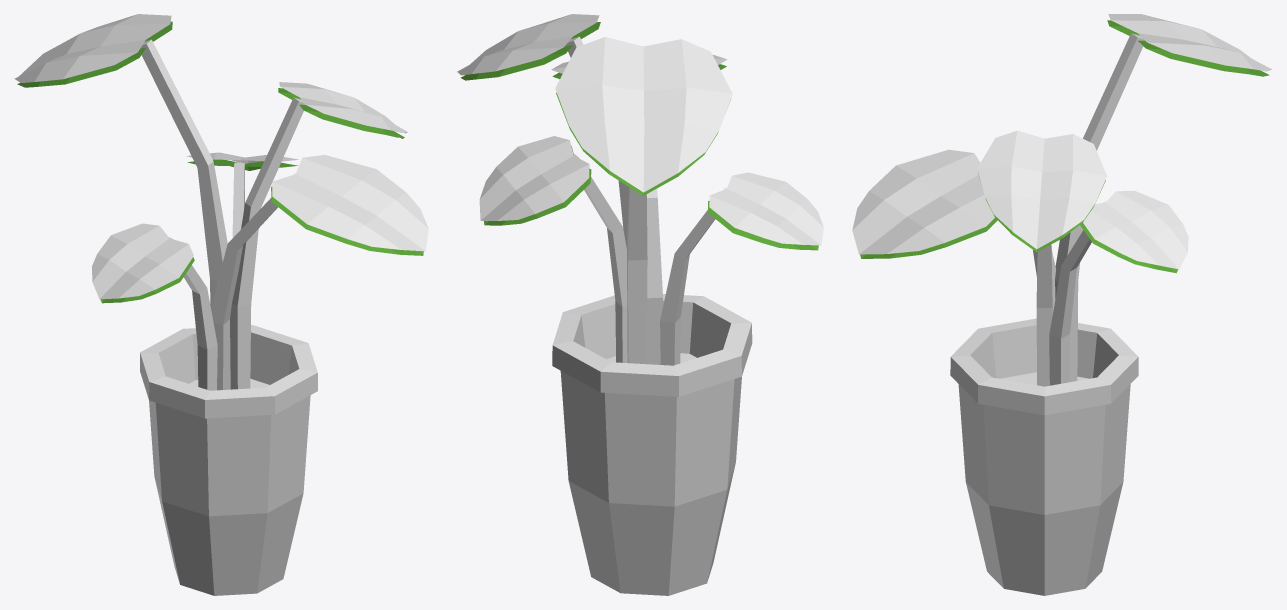
The model's file is Planta01.fbx.
The picture shows the model from 3 angles, left to right: view 1: azimuth 30°, elevation 25°; view 2: azimuth 150°, elevation 25°; view 3: azimuth 270°, elevation 25°; orthographic projection. The views are drawn at different scales.
Visible parts, largest first — view 1: Planta01_Planta, Planta01_macetero; view 2: Planta01_Planta, Planta01_macetero; view 3: Planta01_Planta, Planta01_macetero.
Boxes of the visible parts, x1,y1,x2,y2 form: Planta01_Planta: [14, 14, 428, 390]; Planta01_macetero: [140, 325, 317, 595]; Planta01_Planta: [457, 14, 823, 365]; Planta01_macetero: [552, 294, 752, 595]; Planta01_Planta: [852, 14, 1272, 386]; Planta01_macetero: [950, 318, 1138, 595].
Bounding box in the file's own units: 2.92 × 4.58 × 3.32.
